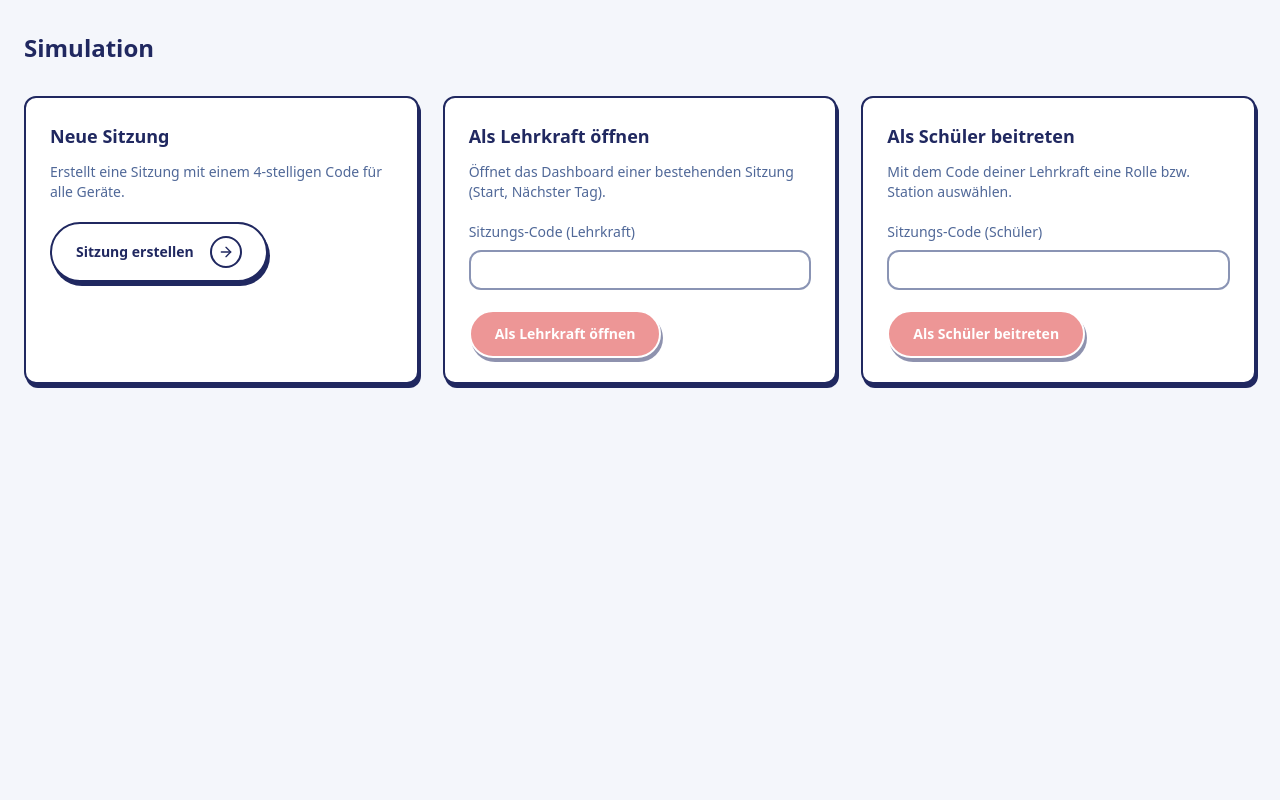
it: SimulationPage › creates a session and shows its stations
The width and height of the screenshot is (1280, 800).
Click the button "Sitzung erstellen" at (159, 252), box [50, 222, 268, 282]
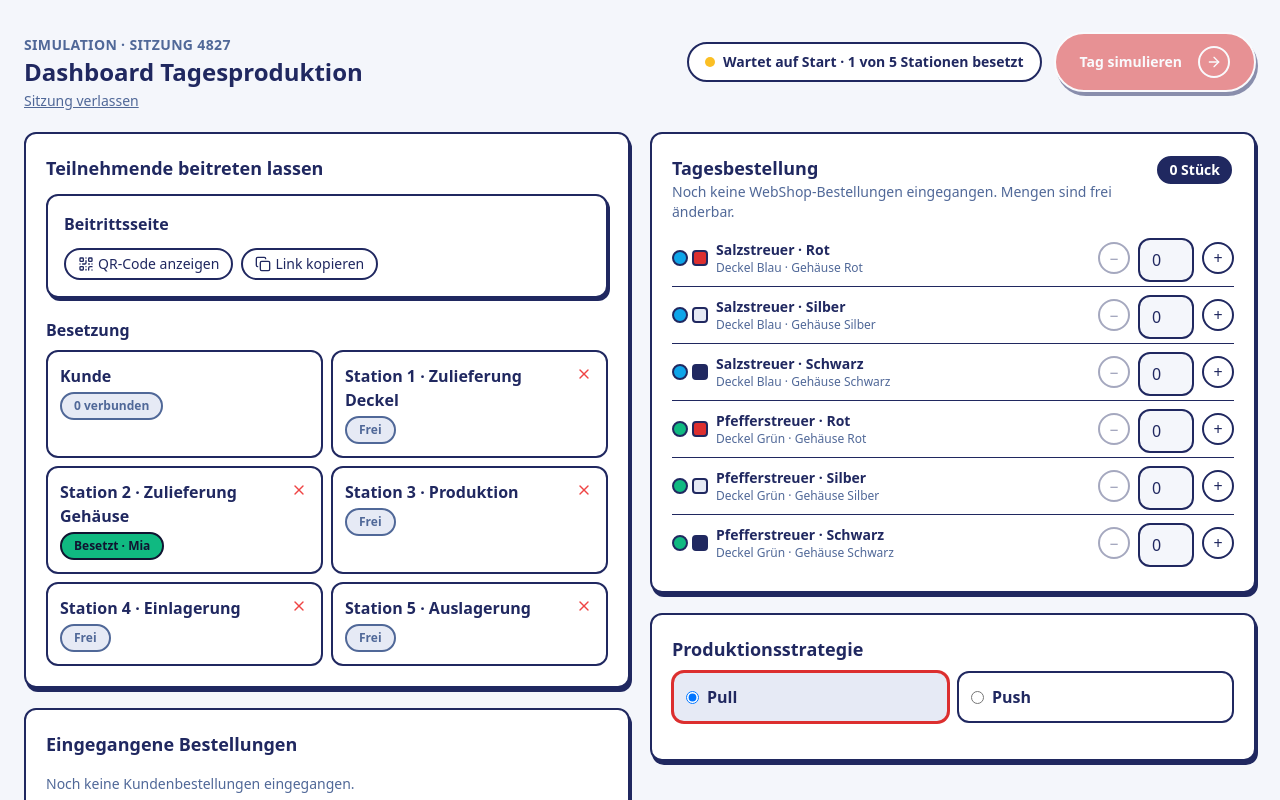
Now the heading "Dashboard Tagesproduktion" is shown, box [24, 56, 363, 88]
Now the text "Wartet auf Start · 1 von 5 Stationen besetzt" is shown, box [687, 42, 1042, 82]
Now the text "Simulation · Sitzung 4827" is shown, box [24, 35, 231, 54]
